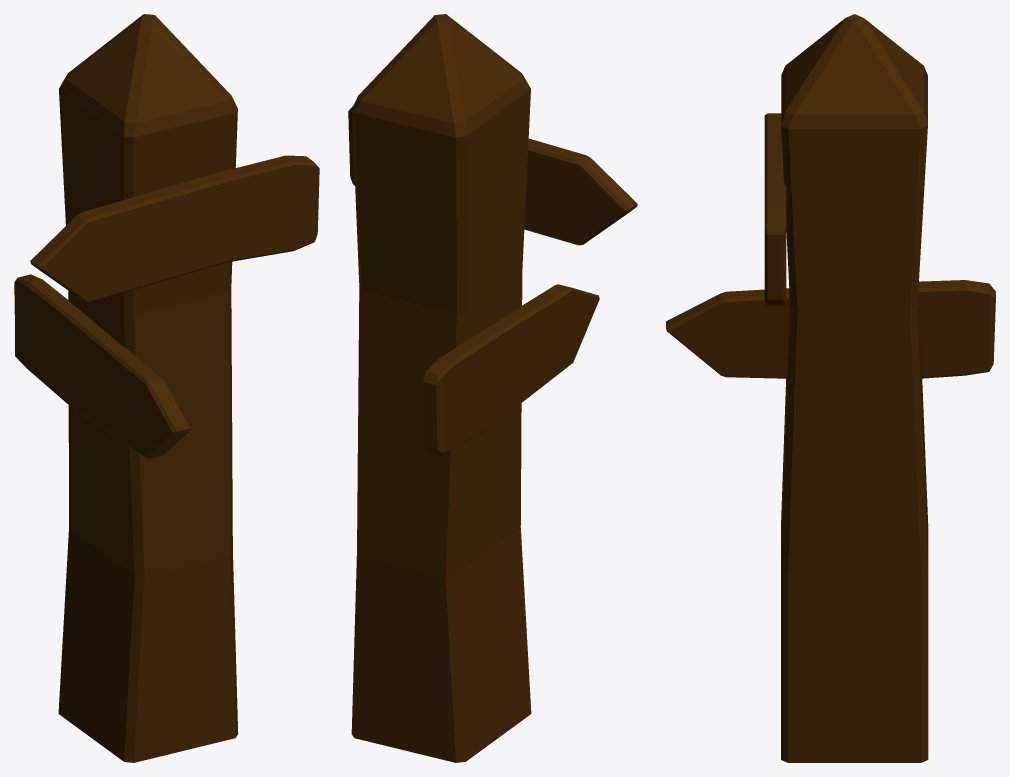
File: Town_sign_01.fbx
3 renders of one model, left to right at view 1: azimuth 30°, elevation 25°; view 2: azimuth 150°, elevation 25°; view 3: azimuth 270°, elevation 25°, orthographic.
Visible parts, largest first — view 1: Signpost_01; view 2: Signpost_01; view 3: Signpost_01.
Boxes of the visible parts, x1,y1,x2,y2 form: Signpost_01: [14, 14, 319, 762]; Signpost_01: [348, 14, 637, 762]; Signpost_01: [666, 14, 995, 762].
Size of the model in its own units: 45.23 by 108 by 45.23.
